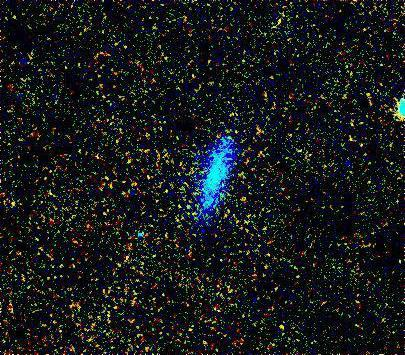star: (227, 188, 257, 218)
